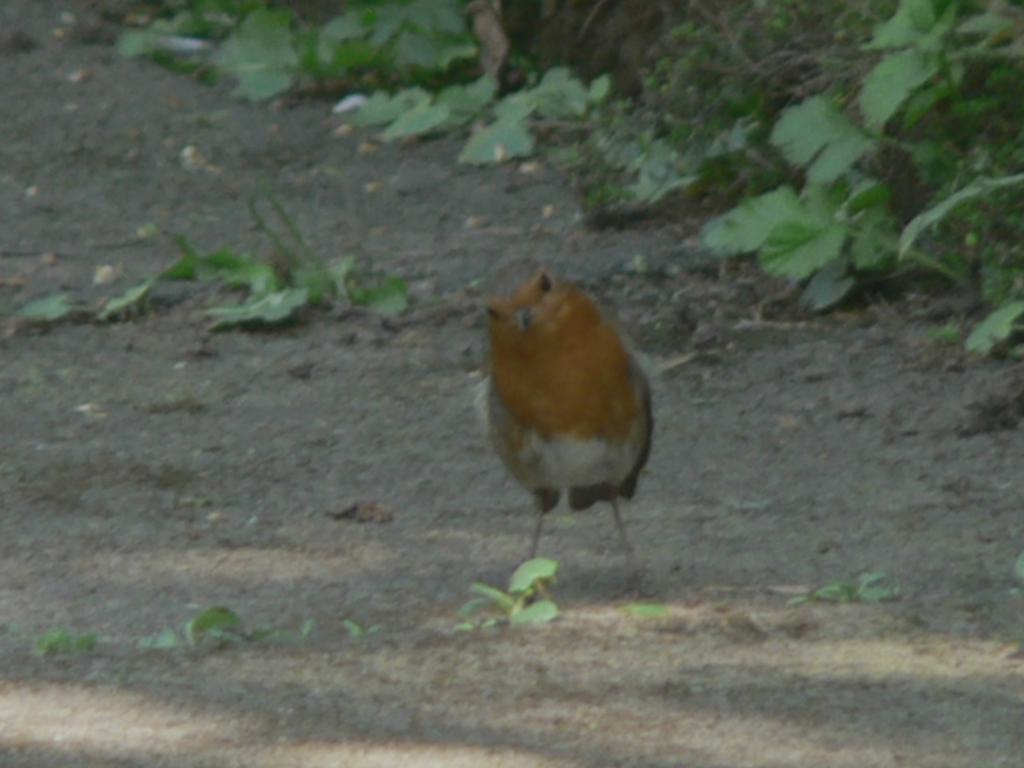ErithacusRubecula: (482, 259, 652, 559)
